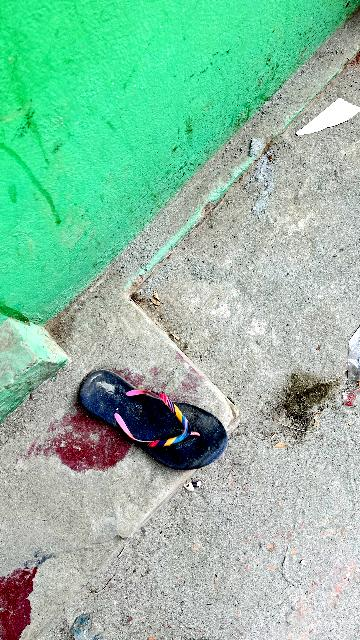sandal: (65, 358, 240, 495)
